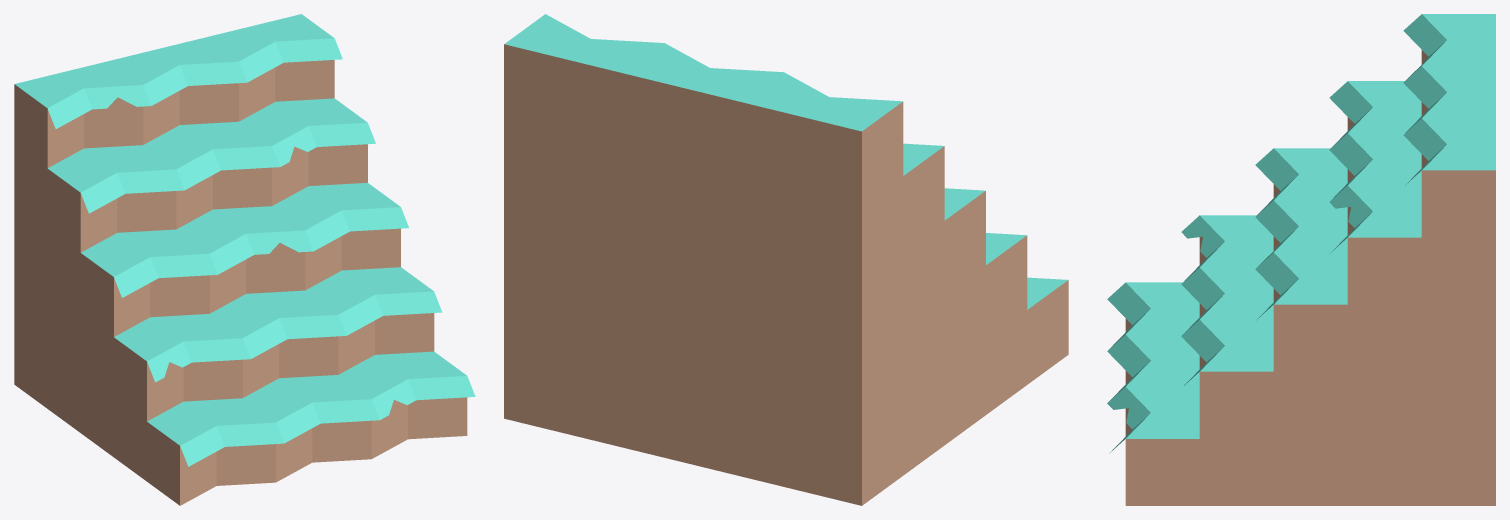
3 renders of one model, left to right at view 1: azimuth 30°, elevation 25°; view 2: azimuth 150°, elevation 25°; view 3: azimuth 270°, elevation 25°, orthographic. The views are drawn at different scales.
Visible parts, largest first — view 1: cliff_steps_rock; view 2: cliff_steps_rock; view 3: cliff_steps_rock.
Part boxes in pixels (x1,y1,x2,y2): cliff_steps_rock: [14, 14, 475, 505]; cliff_steps_rock: [504, 14, 1068, 505]; cliff_steps_rock: [1107, 14, 1495, 505].
Bounding box in the file's own units: 1 × 1 × 1.05.
